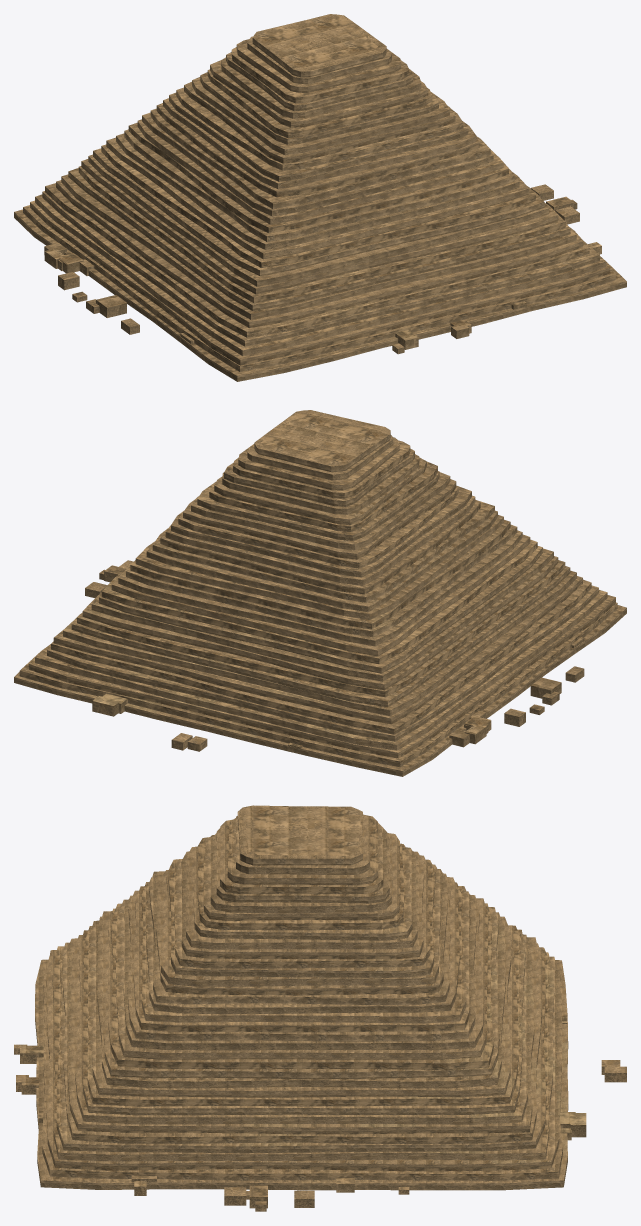
The model's file is giza_g3a.glb.
3 renders of one model, top to bottom at view 1: azimuth 30°, elevation 25°; view 2: azimuth 150°, elevation 25°; view 3: azimuth 270°, elevation 25°, orthographic. The views are drawn at different scales.
Visible parts, largest first — view 1: g3a; view 2: g3a; view 3: g3a.
Part boxes in pixels (x1=…): g3a: x1=14, y1=14, x2=626, y2=381; g3a: x1=14, y1=410, x2=626, y2=776; g3a: x1=14, y1=805, x2=626, y2=1211.
Bounding box in the file's own units: 50.61 × 21.6 × 49.14.
1 material, 1 textured.
